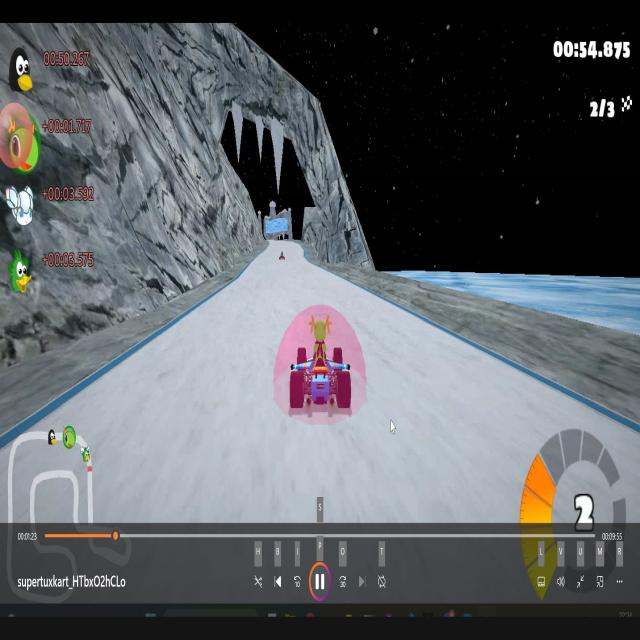player_kart: (264, 294, 368, 426)
track: (0, 441, 640, 520), (161, 322, 262, 437), (97, 375, 162, 438), (253, 258, 332, 290)
